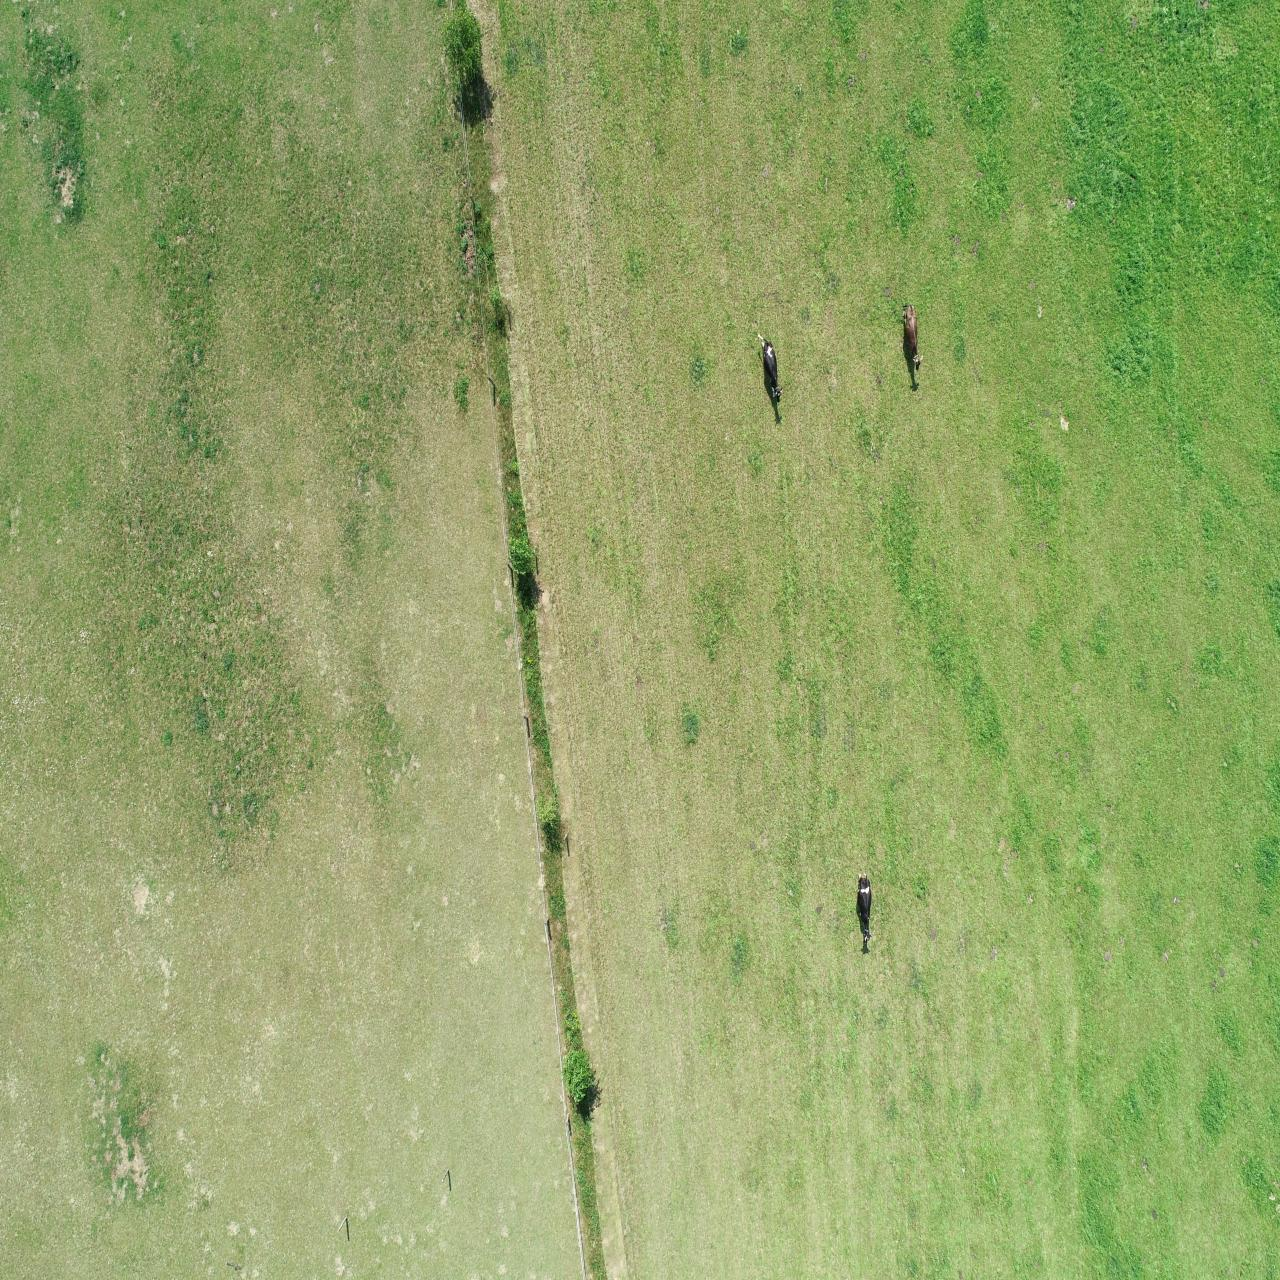cow: (755, 333, 784, 403), (899, 302, 925, 372), (853, 870, 874, 945)
